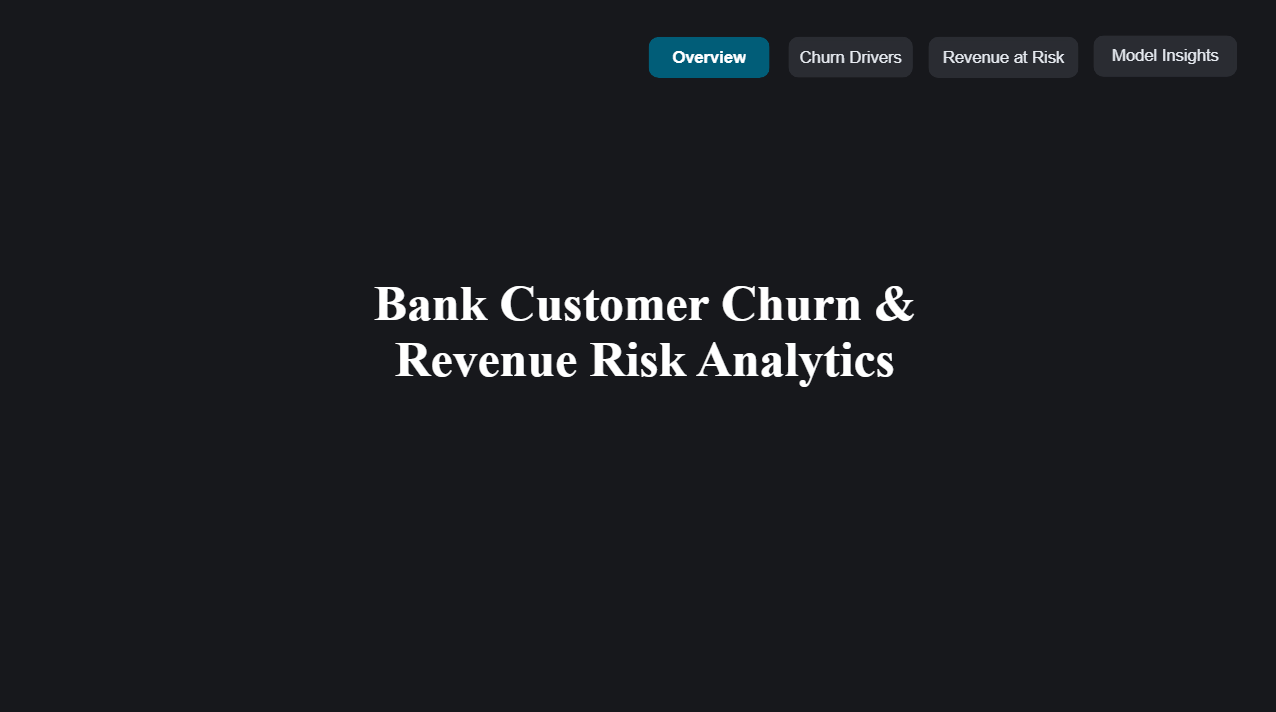

Layout of this report page (visuals, bound fields, positions):
{"tool":"powerbi","page":{"name":"Project","canvas":[1920,1080],"ordinal":0},"visuals":[{"type":"shape","box":[1190.8,70.6,180,59],"z":5000},{"type":"shape","box":[1393.4,70.6,217.2,59.7],"z":6000},{"type":"shape","box":[1632.3,68.8,208,59.7],"z":7000},{"type":"shape","box":[988.1,70.6,175.5,59.7],"z":8000},{"type":"textbox","box":[497.7,414.4,970,211.7],"z":9000}]}

Visuals, with their boxes in screenshot pixels (x1, y1, x2, y2), scaled from the page's 1920x1080 canvas onto the 1276x712 screenshot:
shape: box=[791, 47, 911, 85]
shape: box=[926, 47, 1070, 86]
shape: box=[1085, 45, 1223, 85]
shape: box=[657, 47, 773, 86]
textbox: box=[331, 273, 975, 413]
